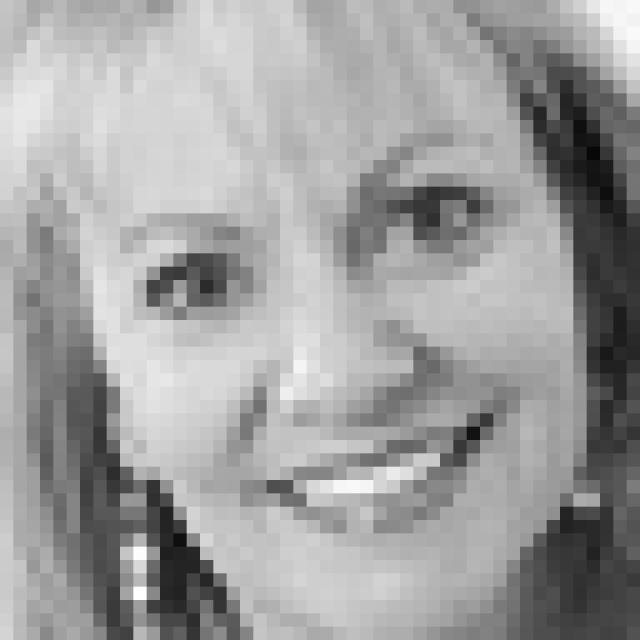happy: (109, 123, 536, 551)
